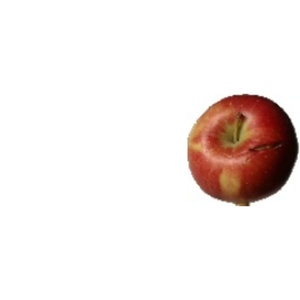maçã braeburn: (184, 92, 299, 203)
